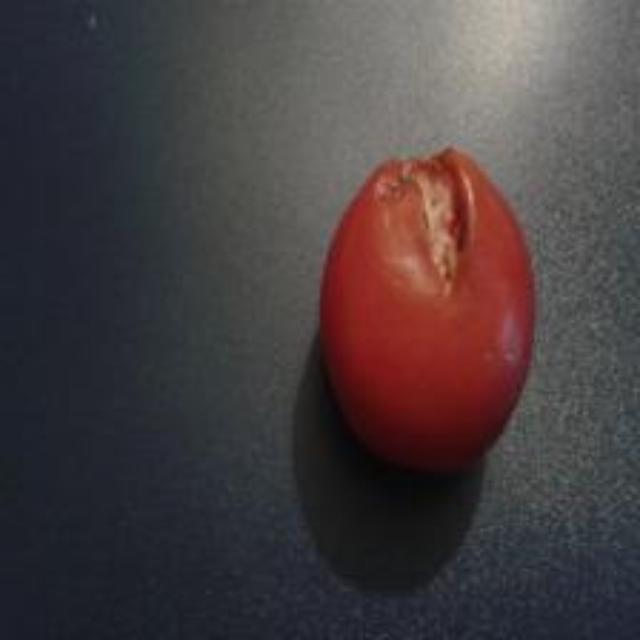defect: (309, 140, 553, 490)
